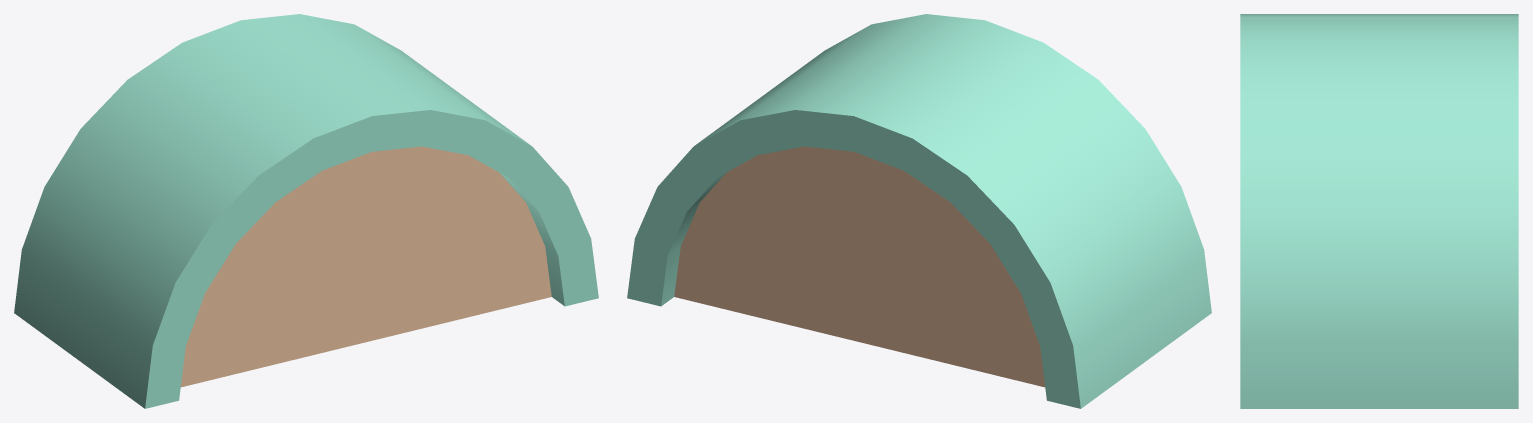
3 renders of one model, left to right at view 1: azimuth 30°, elevation 25°; view 2: azimuth 150°, elevation 25°; view 3: azimuth 270°, elevation 25°, orthographic. The views are drawn at different scales.
Visible parts, largest first — view 1: blockCurve; view 2: blockCurve; view 3: blockCurve.
Part boxes in pixels (bbox=[...]): blockCurve: bbox=[14, 14, 598, 408]; blockCurve: bbox=[627, 14, 1211, 408]; blockCurve: bbox=[1240, 14, 1518, 408].
Size of the model in its own units: 2 by 1 by 1.
